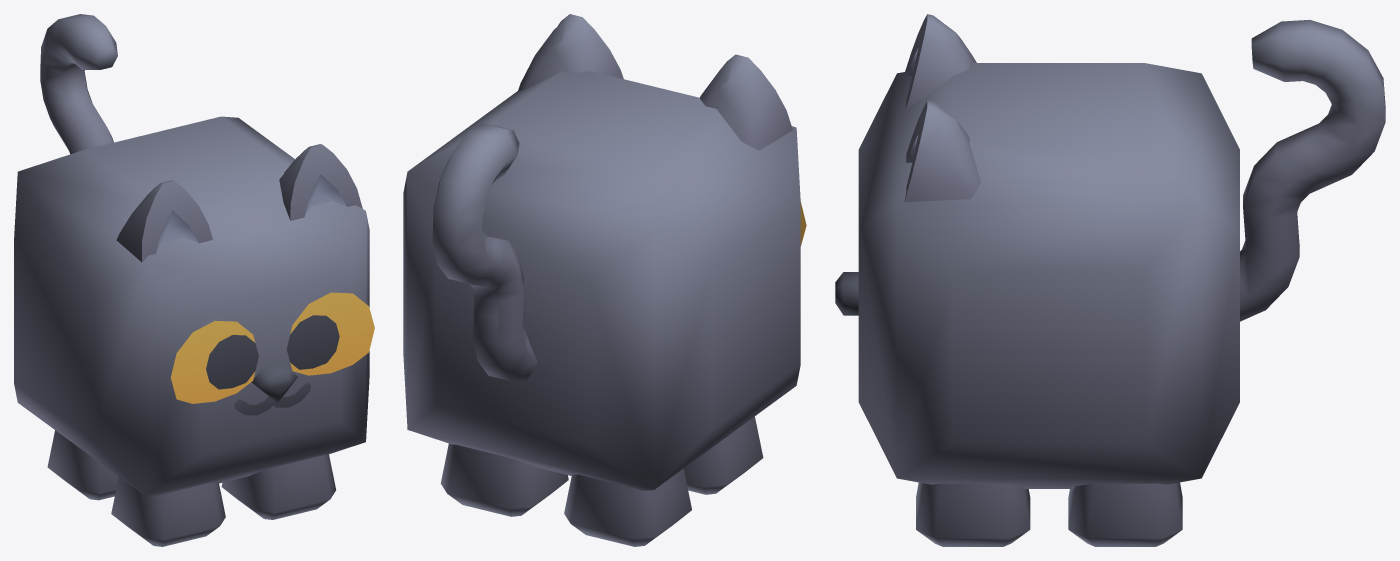
The model's file is animal-cat.glb.
3 renders of one model, left to right at view 1: azimuth 30°, elevation 25°; view 2: azimuth 150°, elevation 25°; view 3: azimuth 270°, elevation 25°, orthographic. The views are drawn at different scales.
Parts seen in each view (by area): view 1: body, tail, leg-front-right, leg-front-left, leg-back-right, Group; view 2: body, tail, leg-back-right, leg-back-left, leg-front-right; view 3: body, tail, leg-back-left, leg-front-left.
Boxes of the visible parts, box(x1,y1,x2,y2) form: body: box(14, 116, 374, 496); tail: box(40, 14, 117, 154); leg-front-right: box(111, 477, 225, 546); leg-front-left: box(221, 454, 335, 519); leg-back-right: box(47, 430, 118, 500); Group: box(234, 383, 311, 415); body: box(403, 14, 806, 490); tail: box(432, 123, 537, 383); leg-back-right: box(564, 469, 691, 546); leg-back-left: box(440, 443, 568, 516); leg-front-right: box(683, 416, 763, 494); body: box(835, 14, 1239, 488); tail: box(1240, 20, 1385, 321); leg-back-left: box(1068, 482, 1182, 546); leg-front-left: box(916, 482, 1030, 546).
Bounding box in the file's own units: 1.25 × 1.71 × 1.81.
1 material, 1 textured.
